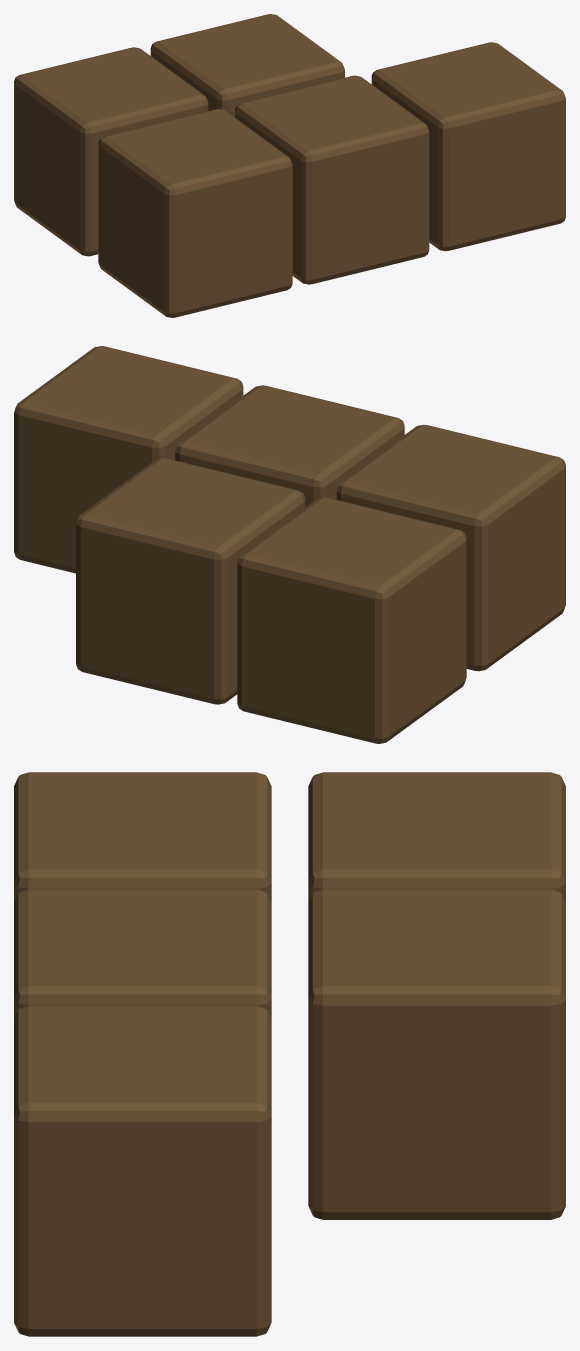
File: prop-hangar-round.glb
The picture shows the model from 3 angles, top to bottom: view 1: azimuth 30°, elevation 25°; view 2: azimuth 150°, elevation 25°; view 3: azimuth 270°, elevation 25°; orthographic projection. The views are drawn at different scales.
Parts seen in each view (by area): view 1: Timber; view 2: Timber; view 3: Timber.
Boxes of the visible parts, x1,y1,x2,y2 form: Timber: (14, 14, 565, 317); Timber: (14, 346, 565, 743); Timber: (14, 772, 565, 1336).
Bounding box in the file's own units: 2.2 × 0.7 × 1.5.
